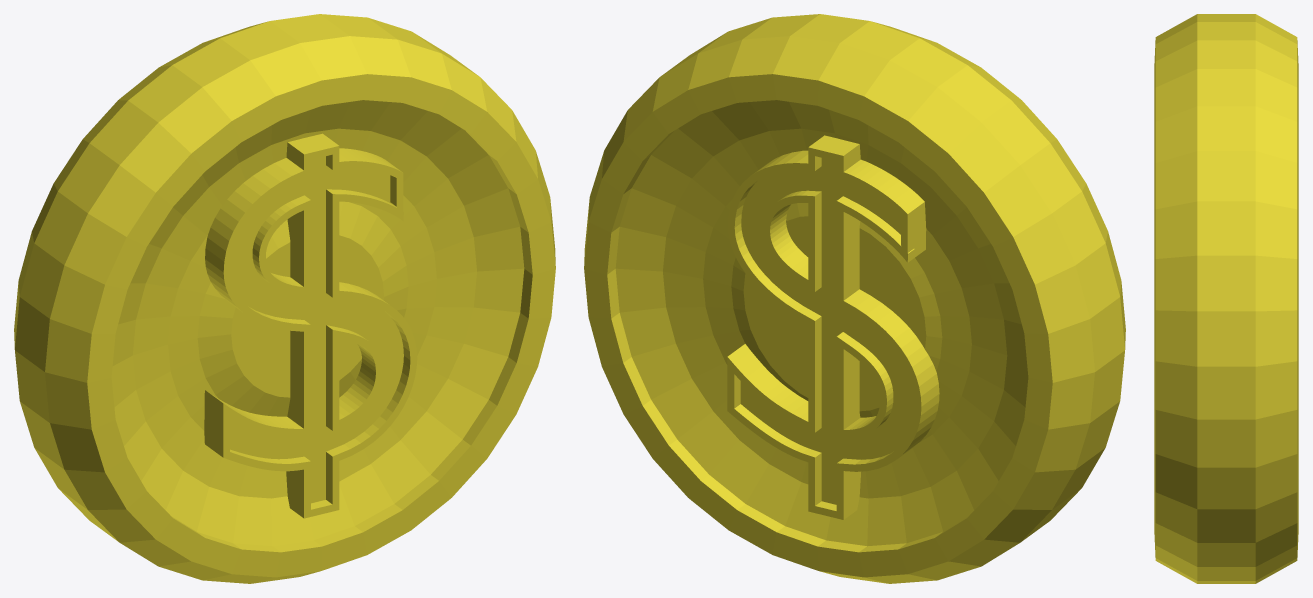
File: Coin_5.fbx
3 views of the same model, side by side, from view 1: azimuth 30°, elevation 25°; view 2: azimuth 150°, elevation 25°; view 3: azimuth 270°, elevation 25° (orthographic). The views are drawn at different scales.
Parts seen in each view (by area): view 1: Text; view 2: Text; view 3: Text.
Boxes of the visible parts, bbox=[...] form: Text: bbox=[14, 14, 555, 583]; Text: bbox=[584, 14, 1125, 583]; Text: bbox=[1154, 14, 1298, 583].
Bounding box in the file's own units: 410 × 410 × 104.
